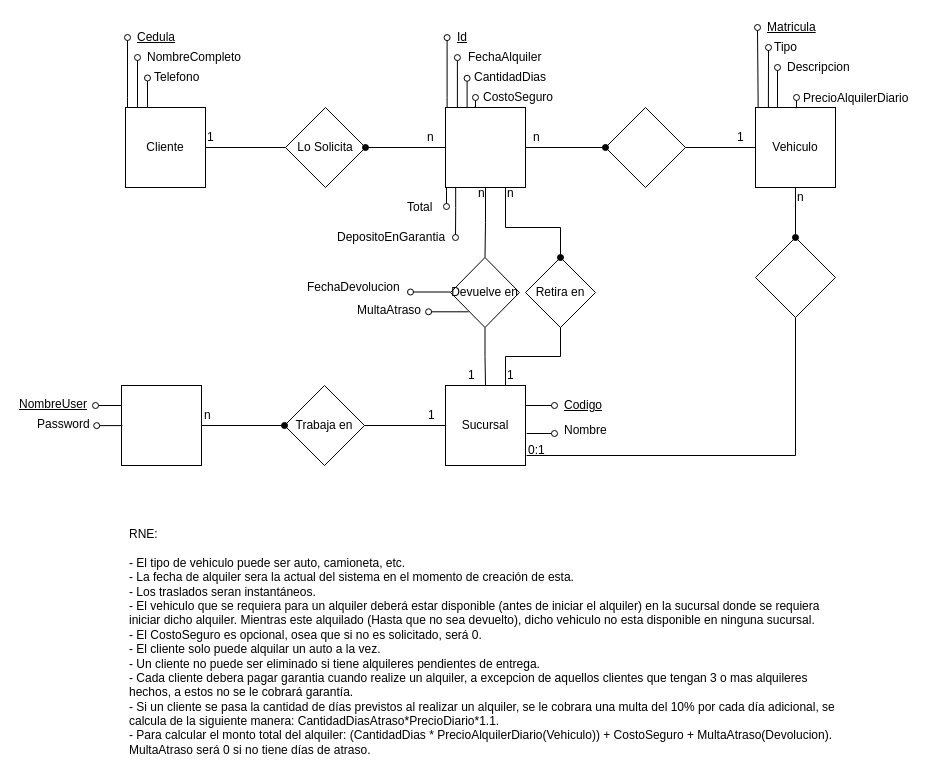
The diagram is 938 pixels wide and 774 high, and some of its shapes have lost their labels. Each missing label, with the centre of its shape:
Alquiler: (x=485, y=147)
Corresponde a: (x=645, y=147)
Empleado: (x=161, y=425)
Esta en: (x=795, y=277)
